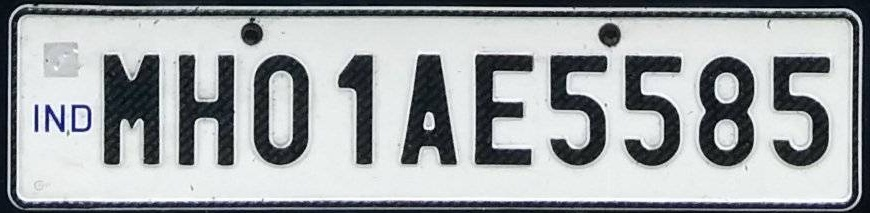character: (100, 52, 163, 165), (176, 52, 238, 166), (398, 52, 459, 166), (472, 52, 533, 166), (772, 52, 831, 167), (250, 53, 309, 166), (548, 52, 607, 165), (622, 53, 680, 167), (696, 56, 753, 167), (333, 52, 375, 166), (42, 102, 66, 135), (69, 102, 92, 133), (31, 101, 41, 135)
